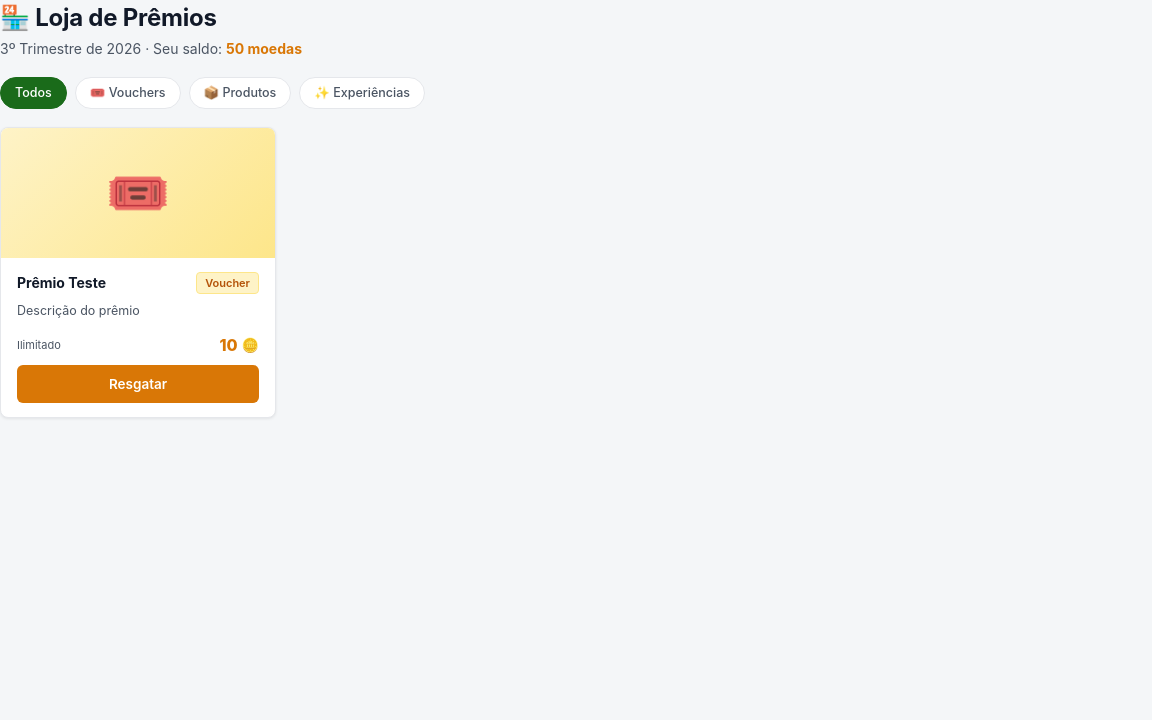
Test case: LojaPage — modal de resgate › cancelar no modal fecha o modal
Click the button "Resgatar".
click(138, 384)  # box [17, 365, 259, 403]
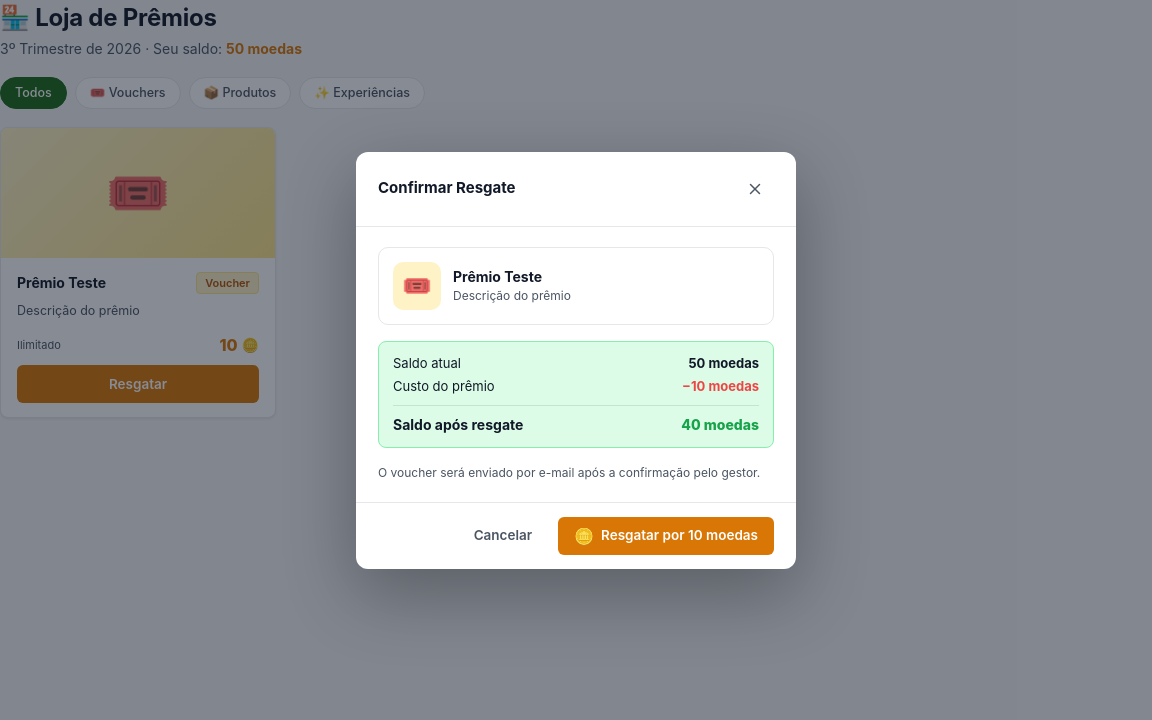
Expected: the heading "Confirmar Resgate" is shown, [378, 177, 516, 200]
Click the button "Cancelar".
click(503, 536)  # box [458, 516, 548, 554]
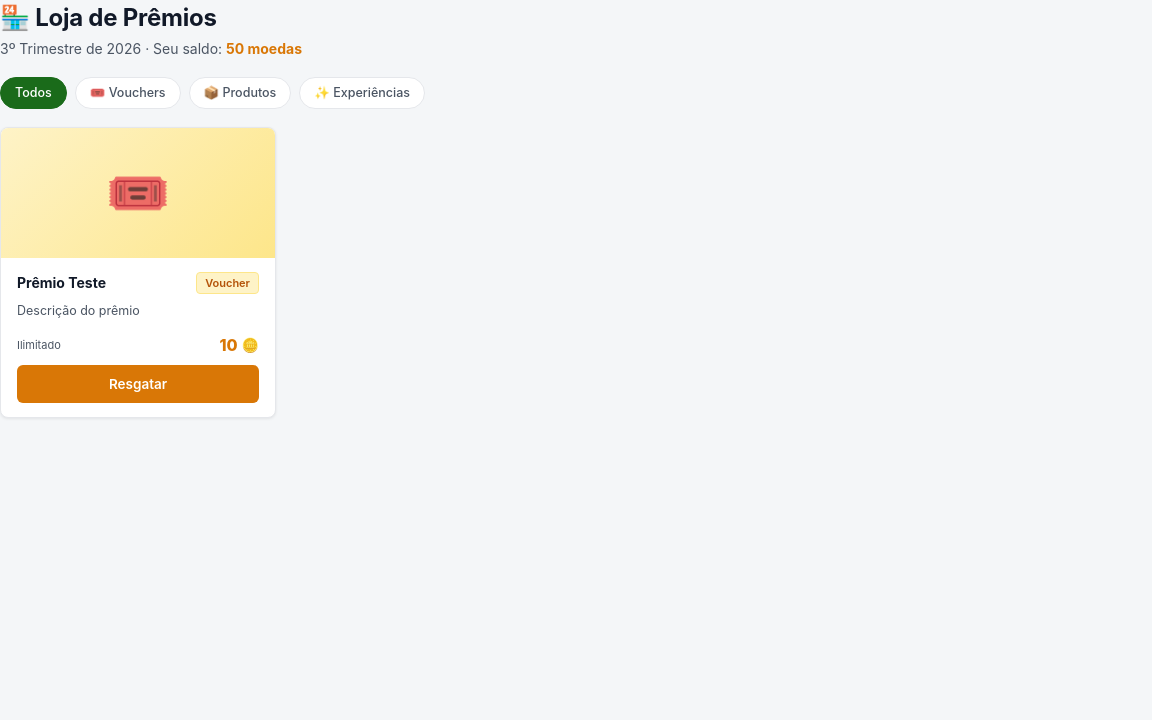
Expected: the heading "Confirmar Resgate" is gone
